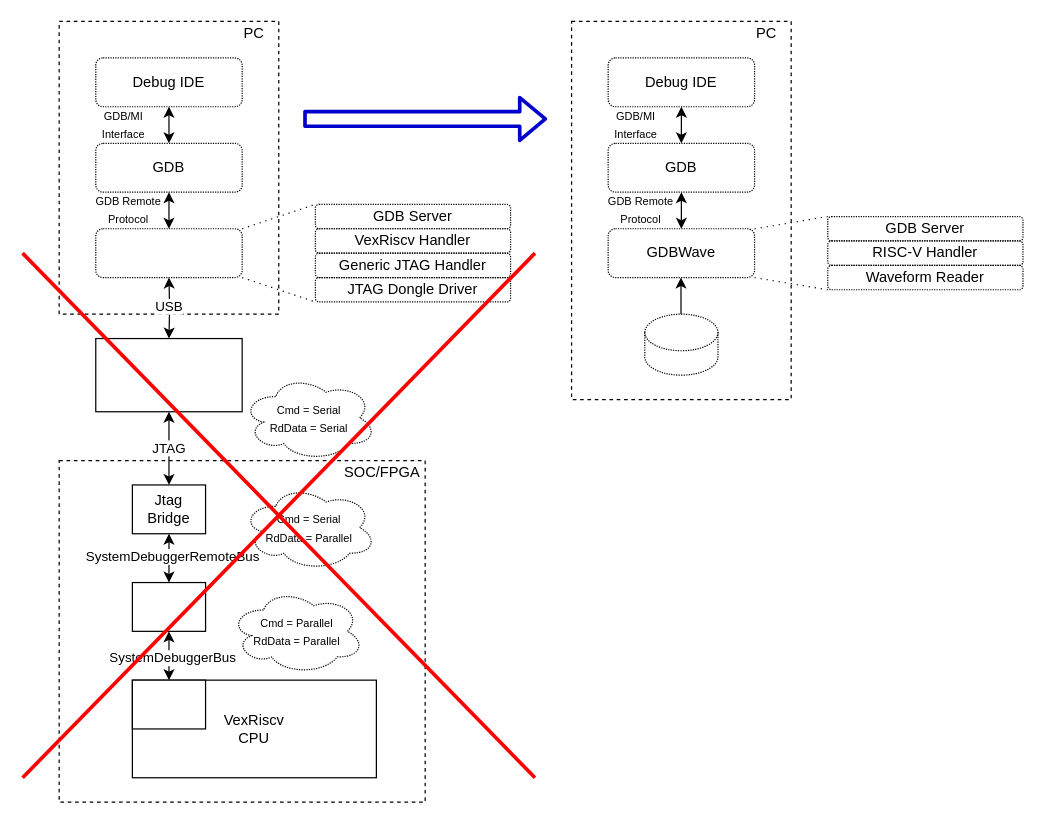
The diagram is 1044 pixels wide and 824 high, and some of its shapes have lost their labels. Here are the shapes that lost their labels. From the top down, the box of each, then its label:
(95, 228, 242, 278): OpenOCD
(644, 313, 718, 375): Waveform File
(95, 337, 242, 412): USB to JTAG Dongle
(131, 581, 206, 631): System Debugger
(131, 679, 206, 729): Debug Plugin
